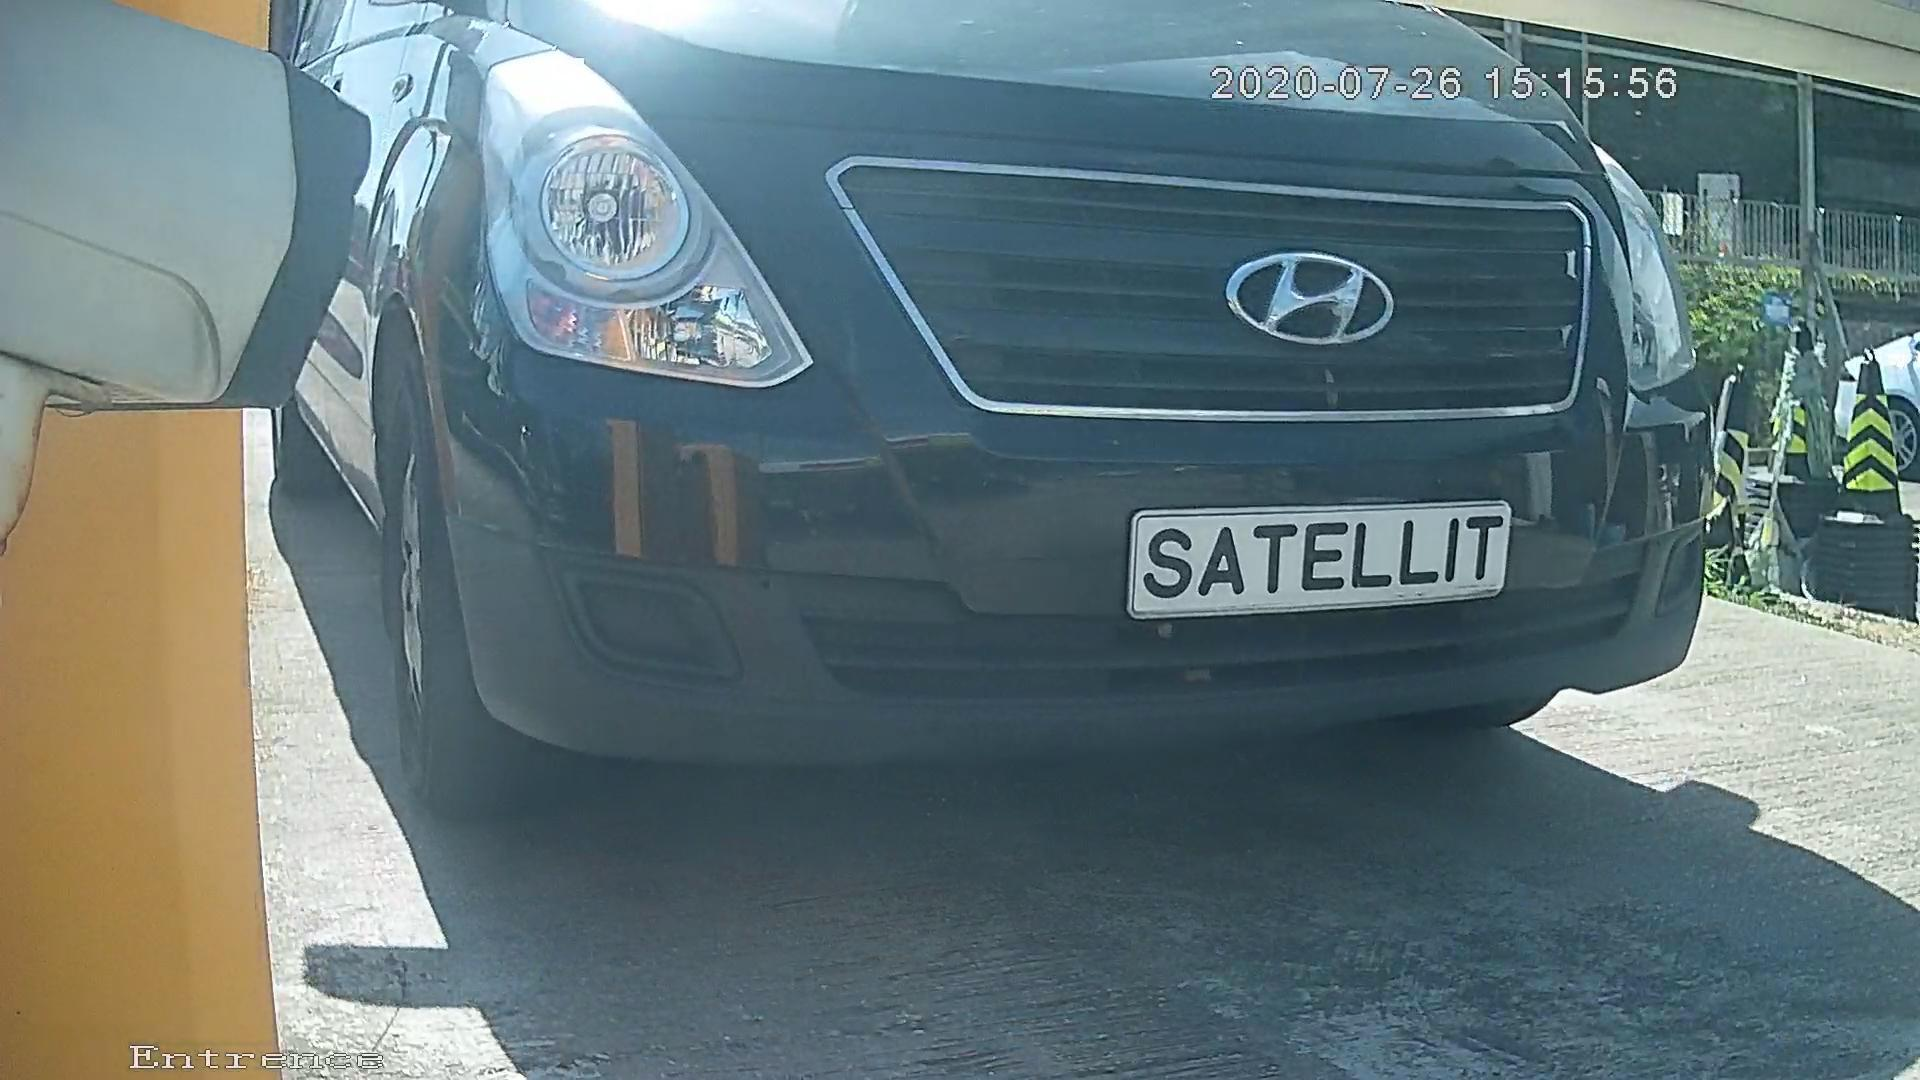privatecar: (241, 1, 1792, 891)
